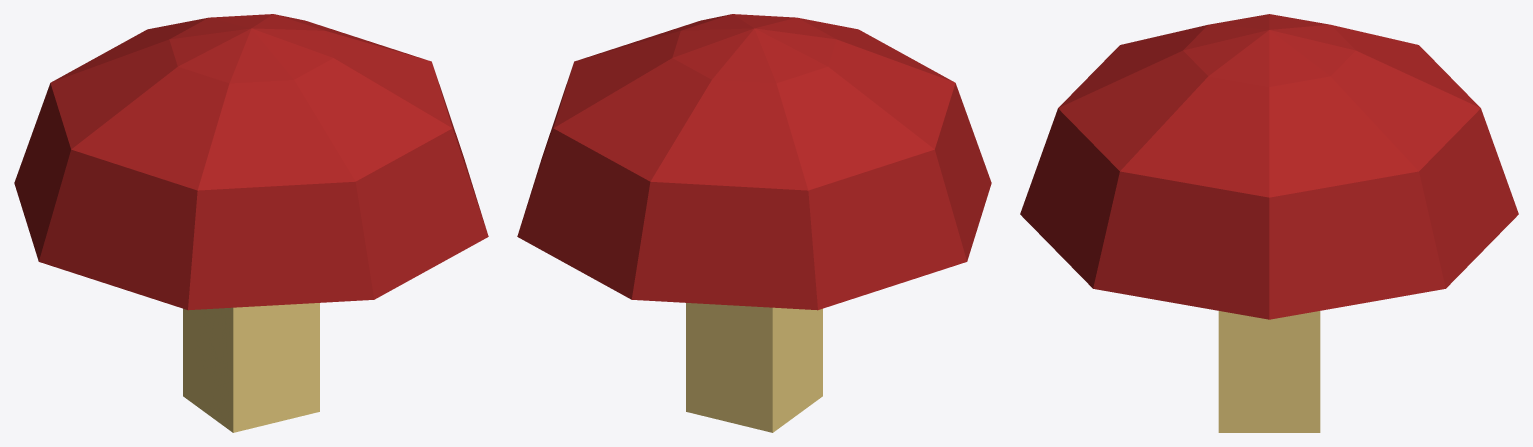
The model's file is mushroom.fbx.
3 renders of one model, left to right at view 1: azimuth 30°, elevation 25°; view 2: azimuth 150°, elevation 25°; view 3: azimuth 270°, elevation 25°, orthographic.
Parts seen in each view (by area): view 1: Sphere, Cube; view 2: Sphere, Cube; view 3: Sphere, Cube.
Part boxes in pixels (x1=…): Sphere: x1=14, y1=14, x2=488, y2=310; Cube: x1=183, y1=303, x2=319, y2=432; Sphere: x1=517, y1=14, x2=991, y2=310; Cube: x1=686, y1=303, x2=822, y2=432; Sphere: x1=1020, y1=14, x2=1518, y2=319; Cube: x1=1218, y1=311, x2=1320, y2=432.
Size of the model in its own units: 35.97 by 30.35 by 35.97.
